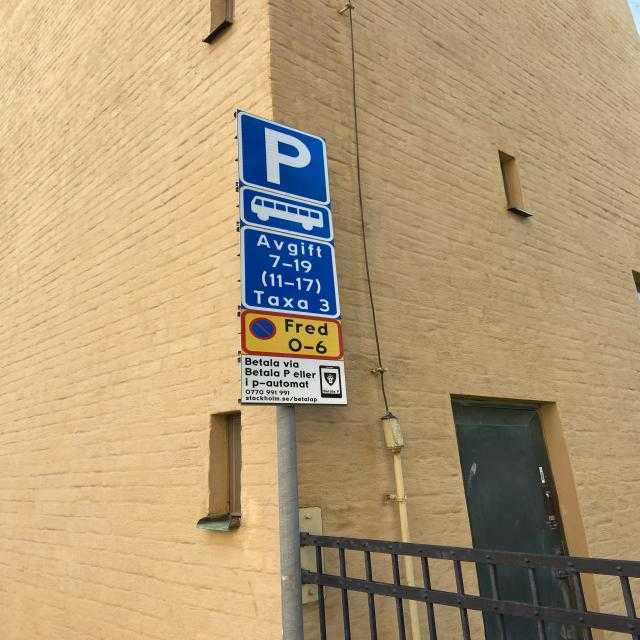lastplats: (234, 108, 332, 206)
